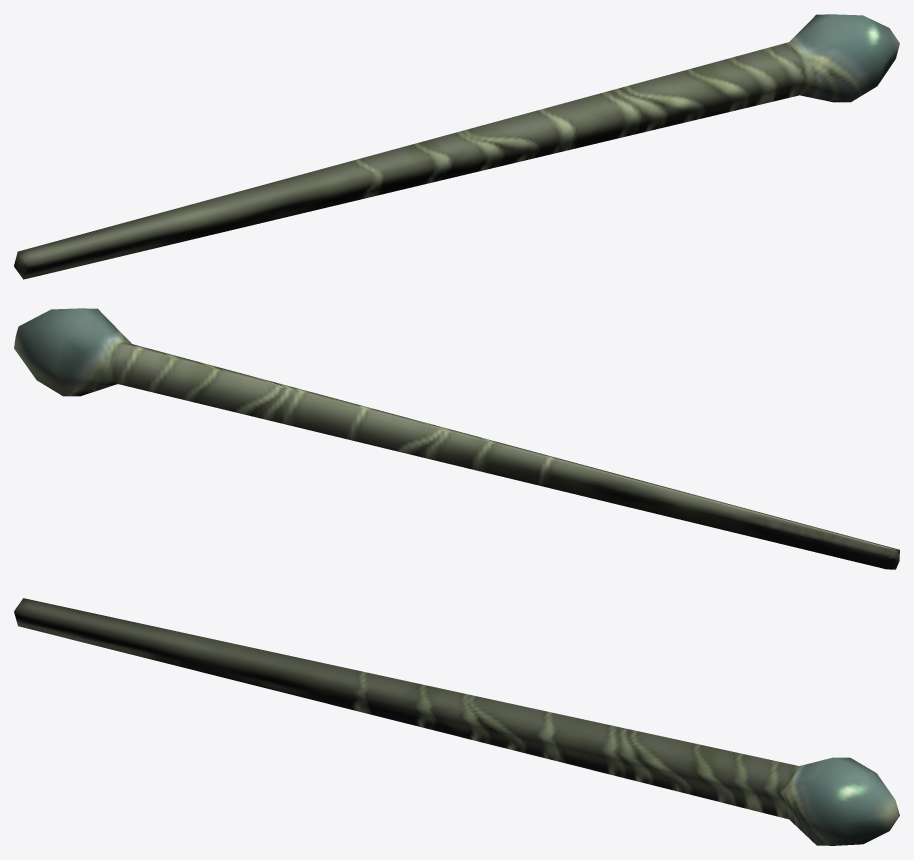
The model's file is Staff 1.fbx.
3 renders of one model, top to bottom at view 1: azimuth 30°, elevation 25°; view 2: azimuth 150°, elevation 25°; view 3: azimuth 330°, elevation 25°, orthographic.
Parts seen in each view (by area): view 1: Staff1; view 2: Staff1; view 3: Staff1.
Part boxes in pixels (x1,y1,x2,y2): Staff1: (14,14,899,279); Staff1: (14,308,899,569); Staff1: (14,598,899,845).
Size of the model in its own units: 2.62 by 0.25 by 0.25.
